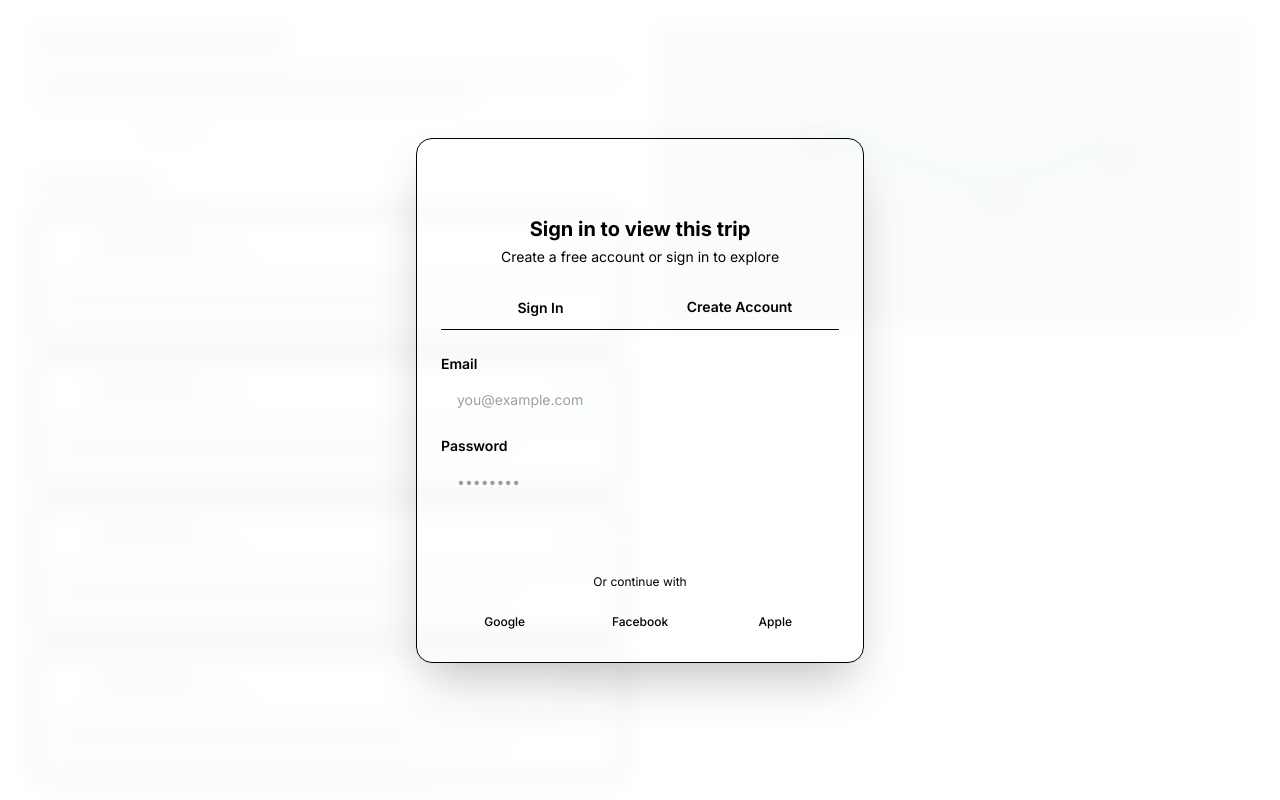
Scenario: TripAuthGate › shows an error message when login fails
Type "a@b.com" into the field with placeholder "you@example.com" at {"x": 640, "y": 400}, box [441,380,839,420]
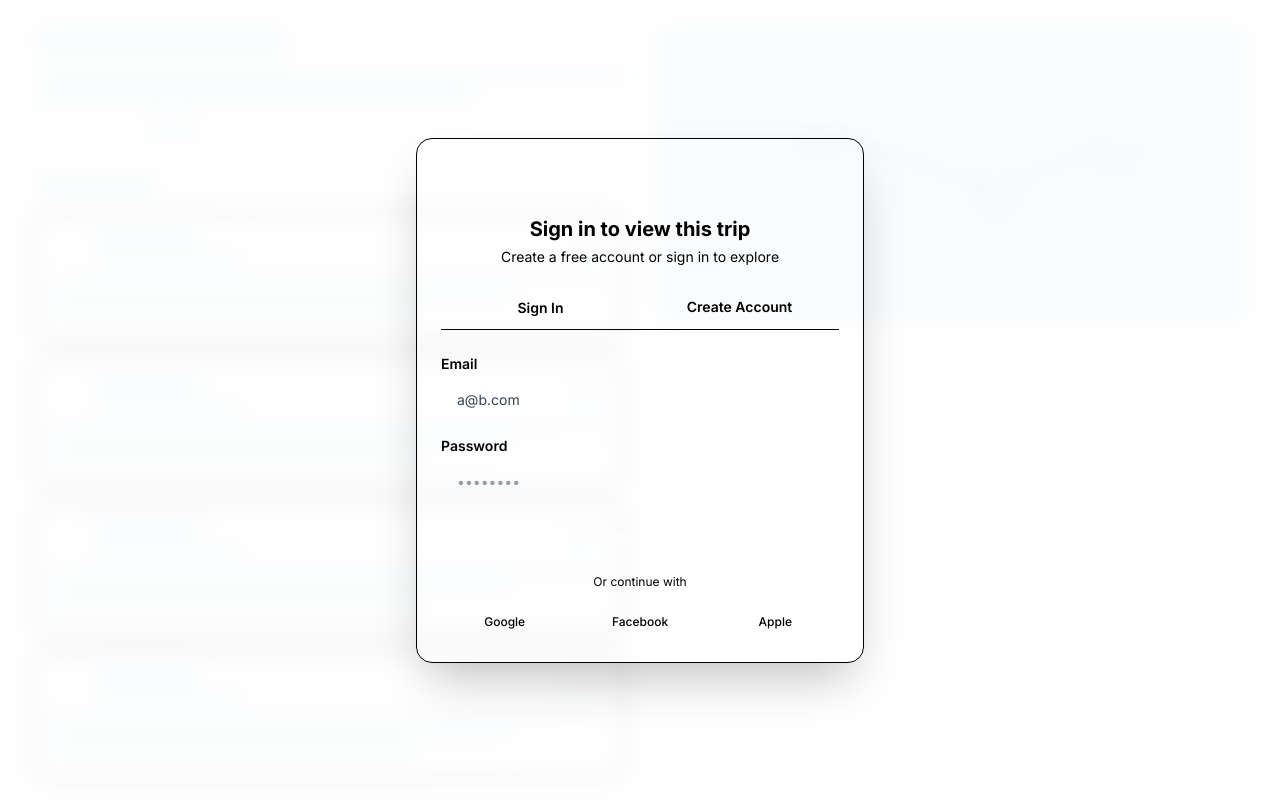
Type "x" into the password field with placeholder "••••••••" at {"x": 640, "y": 482}, box [441,462,839,502]
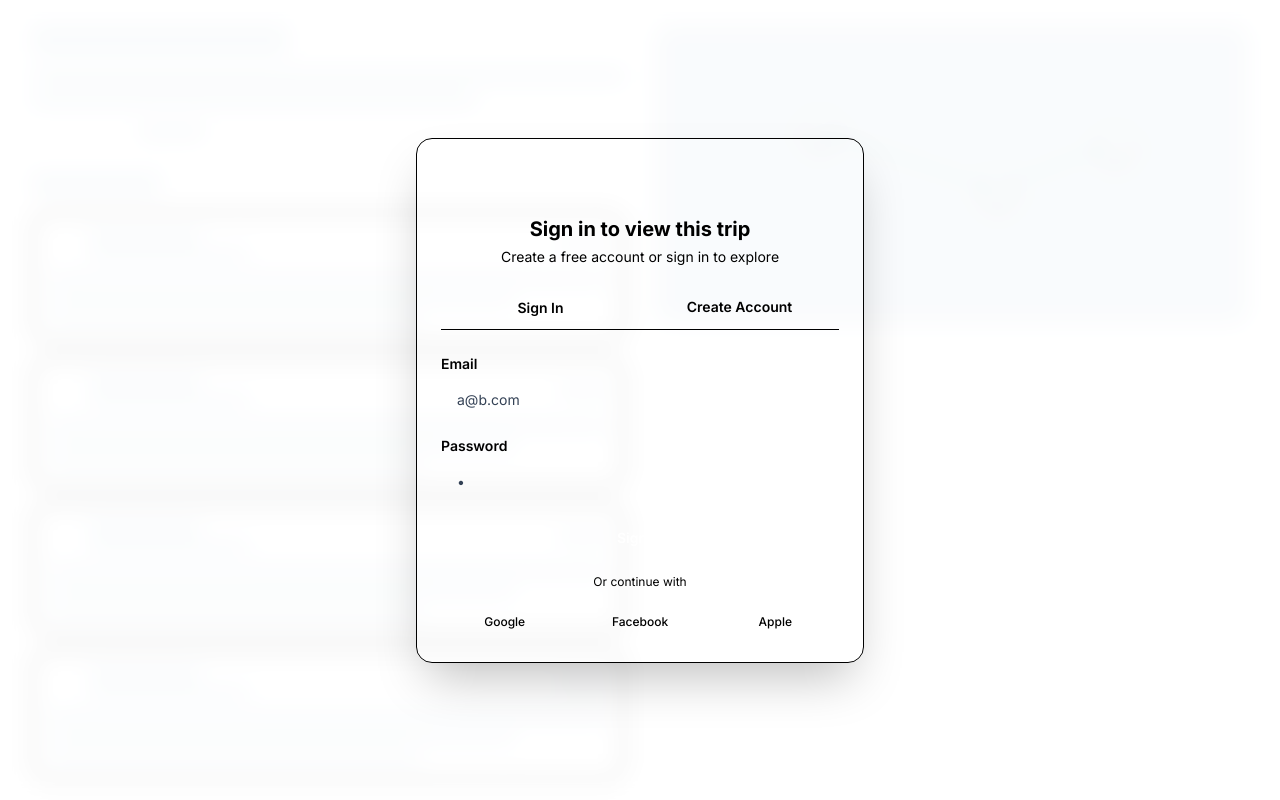
Submit the form "Sign In", box [441,354,839,638]
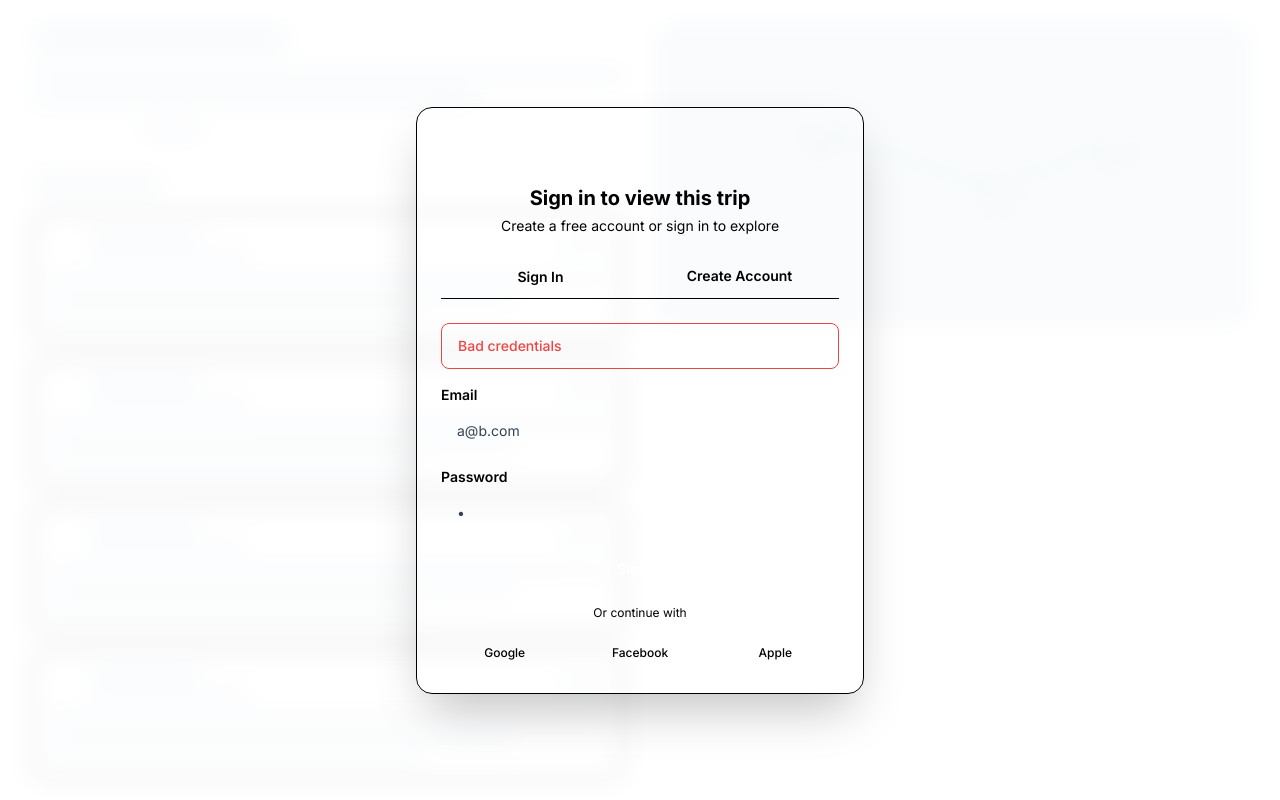
Now the text "Bad credentials" is shown, box [441,322,839,368]
